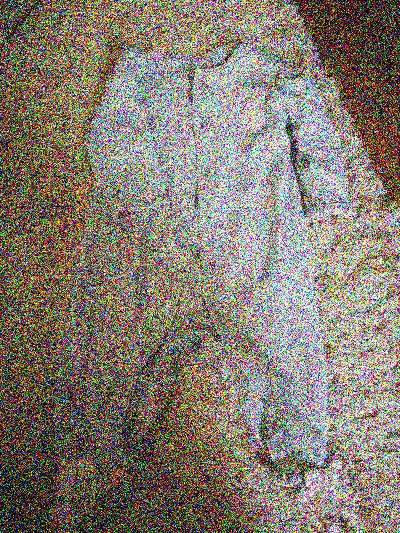Body: (30, 21, 379, 528)
